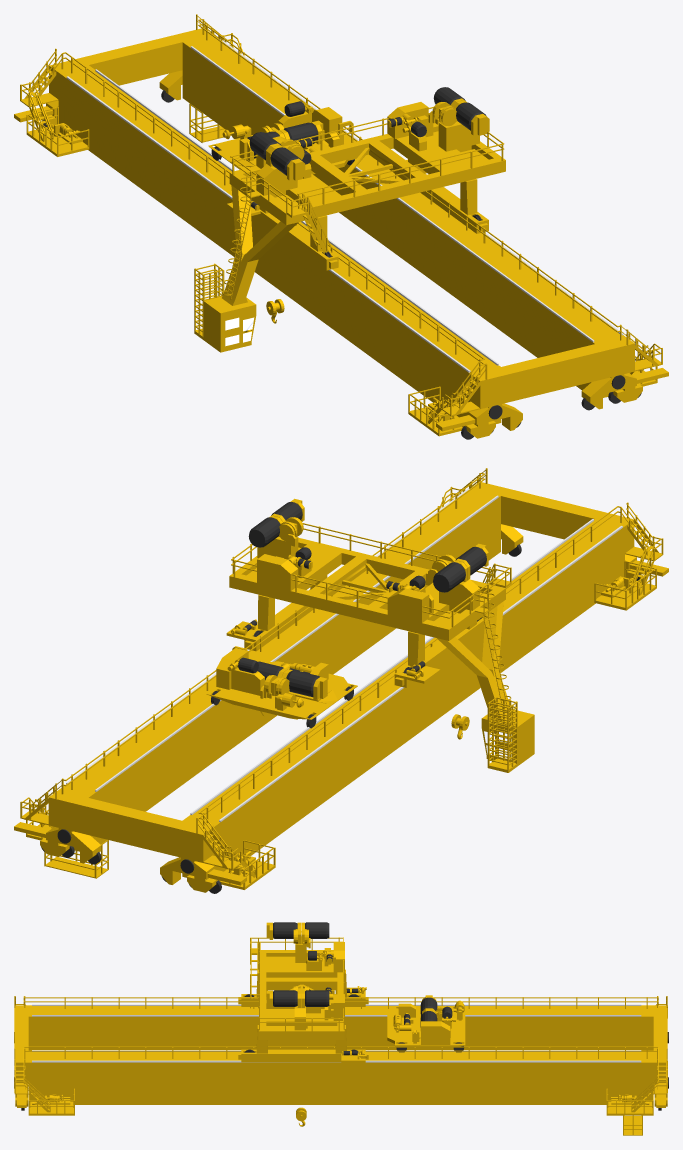
3 views of the same model, one above another, from view 1: azimuth 30°, elevation 25°; view 2: azimuth 150°, elevation 25°; view 3: azimuth 270°, elevation 25° (orthographic). The views are drawn at different scales.
Visible parts, largest first — view 1: 3_Factory_C_810_Body, 3_Factory_C_810_Head_01, 3_Factory_C_810_Head_02; view 2: 3_Factory_C_810_Body, 3_Factory_C_810_Head_01, 3_Factory_C_810_Head_02; view 3: 3_Factory_C_810_Body, 3_Factory_C_810_Head_01, 3_Factory_C_810_Head_02.
Boxes of the visible parts, bbox=[...] form: 3_Factory_C_810_Body: bbox=[14, 14, 668, 439]; 3_Factory_C_810_Head_01: bbox=[194, 87, 505, 352]; 3_Factory_C_810_Head_02: bbox=[208, 101, 357, 174]; 3_Factory_C_810_Body: bbox=[14, 468, 668, 893]; 3_Factory_C_810_Head_01: bbox=[226, 498, 534, 772]; 3_Factory_C_810_Head_02: bbox=[205, 646, 357, 728]; 3_Factory_C_810_Body: bbox=[14, 996, 668, 1135]; 3_Factory_C_810_Head_01: bbox=[238, 922, 368, 1126]; 3_Factory_C_810_Head_02: bbox=[387, 995, 465, 1052].
Size of the model in its own units: 18.14 by 12.04 by 50.23.
